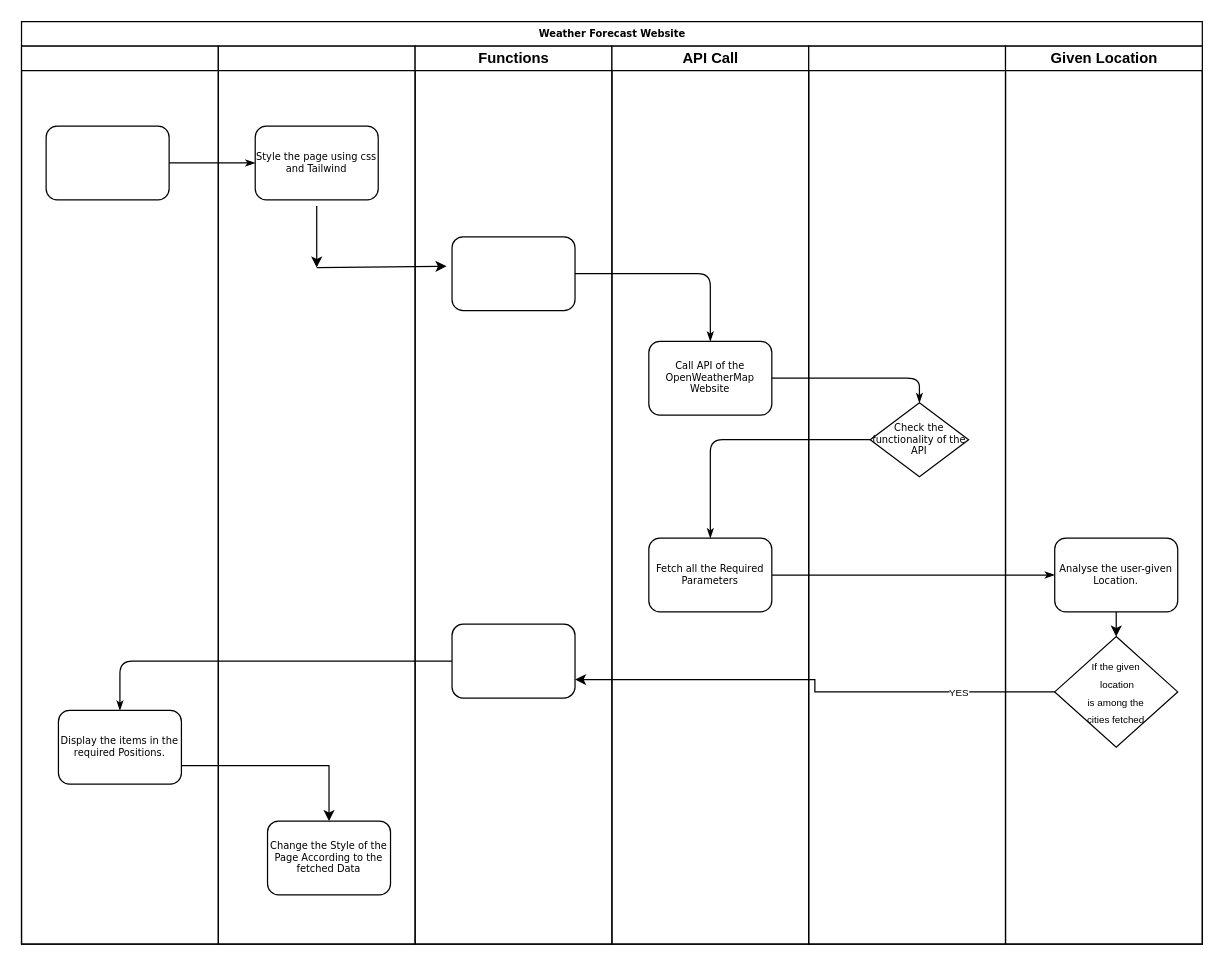
Image size: 1224x966. Some labels were removed from this diagram. Each missing label, with the box of its shape:
Check connection: (807, 45, 1006, 944)
Create the Front Page: (45, 125, 169, 200)
Design: (217, 45, 415, 944)
FrontEnd: (20, 45, 218, 944)
Get the Required Items for the City with JS Functions: (451, 623, 575, 698)
Make the Buttons and Keys Functional with JS functions: (451, 236, 575, 311)
